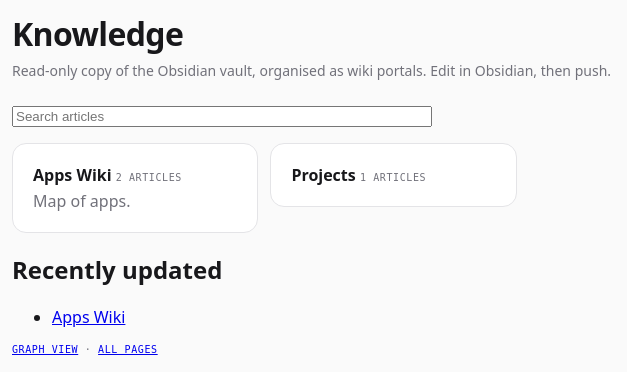
Test: Portals › lists portal cards and filters notes by search
Expected: the text "Map of apps." is shown, [33,190,130,212]
Type "zeta" into the search field at (222, 116), box [12,106,432,127]
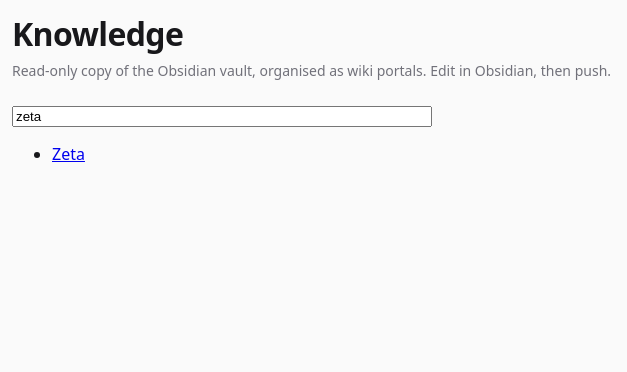
Expected: the link "Zeta" is shown, [52,143,85,165]
